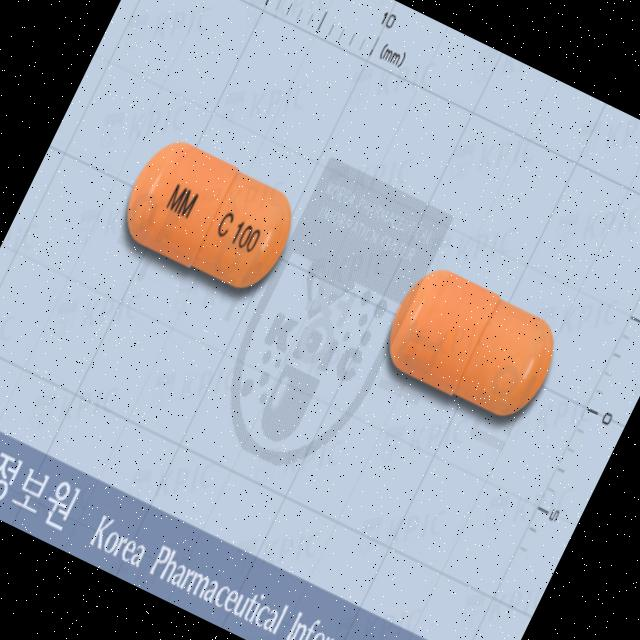Clar: (111, 128, 307, 304), (373, 258, 570, 430)
